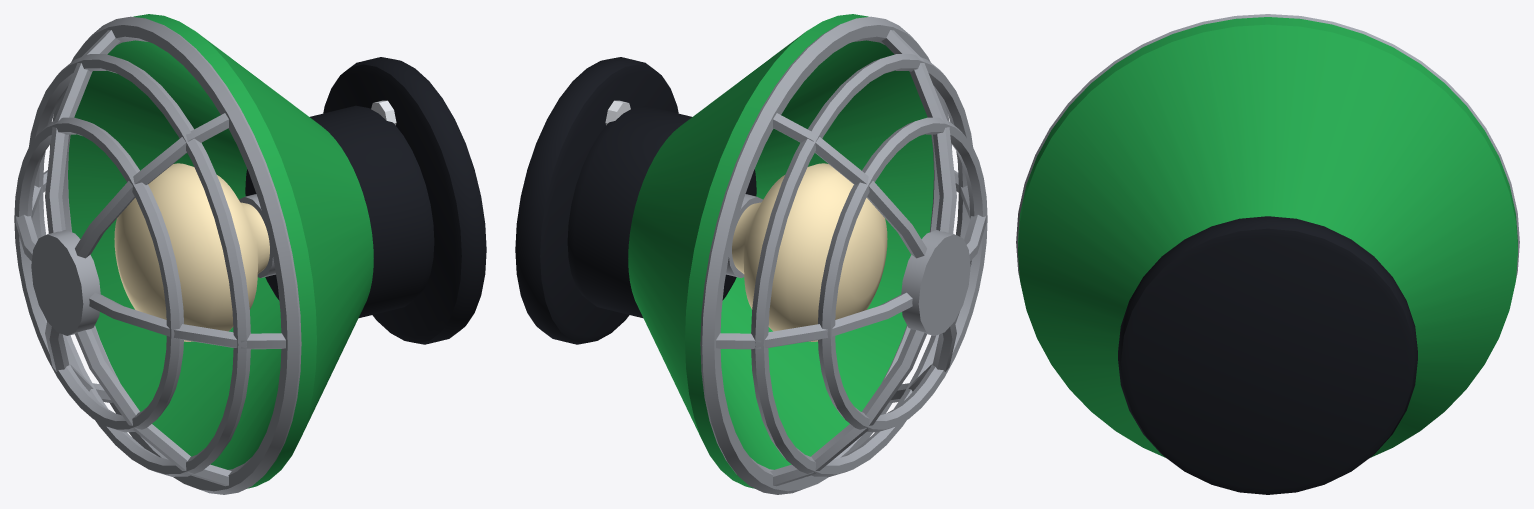
The model's file is G_WallLamp.fbx.
The picture shows the model from 3 angles, left to right: view 1: azimuth 30°, elevation 25°; view 2: azimuth 150°, elevation 25°; view 3: azimuth 270°, elevation 25°; orthographic projection. The views are drawn at different scales.
Parts seen in each view (by area): view 1: Metal.005, Green.001, Dark.005, Glow; view 2: Metal.005, Green.001, Dark.005, Glow; view 3: Green.001, Dark.005, Metal.005.
Boxes of the visible parts, left/top/right/bottom form: Metal.005: left=14, top=16, right=301, bottom=494; Green.001: left=68, top=14, right=373, bottom=488; Dark.005: left=245, top=57, right=486, bottom=344; Glow: left=114, top=163, right=269, bottom=341; Metal.005: left=700, top=16, right=987, bottom=494; Green.001: left=628, top=14, right=933, bottom=488; Dark.005: left=515, top=57, right=756, bottom=344; Glow: left=732, top=163, right=887, bottom=341; Green.001: left=1018, top=17, right=1517, bottom=457; Dark.005: left=1118, top=216, right=1417, bottom=494; Metal.005: left=1016, top=14, right=1519, bottom=279.
Size of the model in its own units: 1.2 by 1.41 by 1.41.
